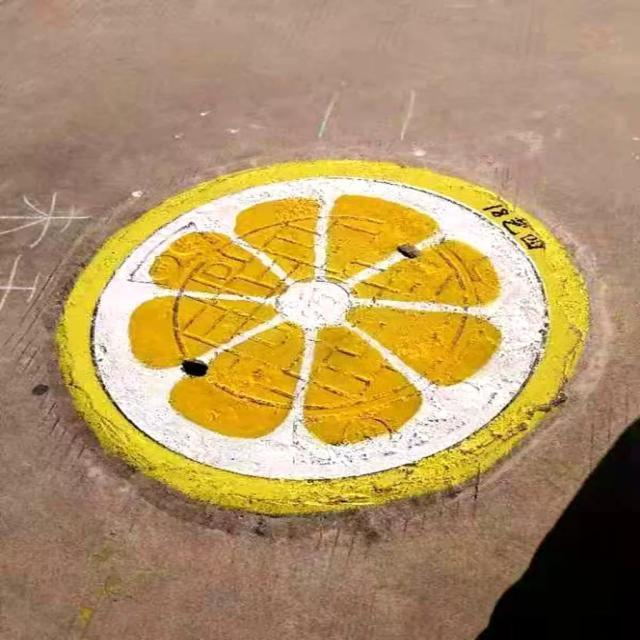manhole: (54, 159, 591, 520)
